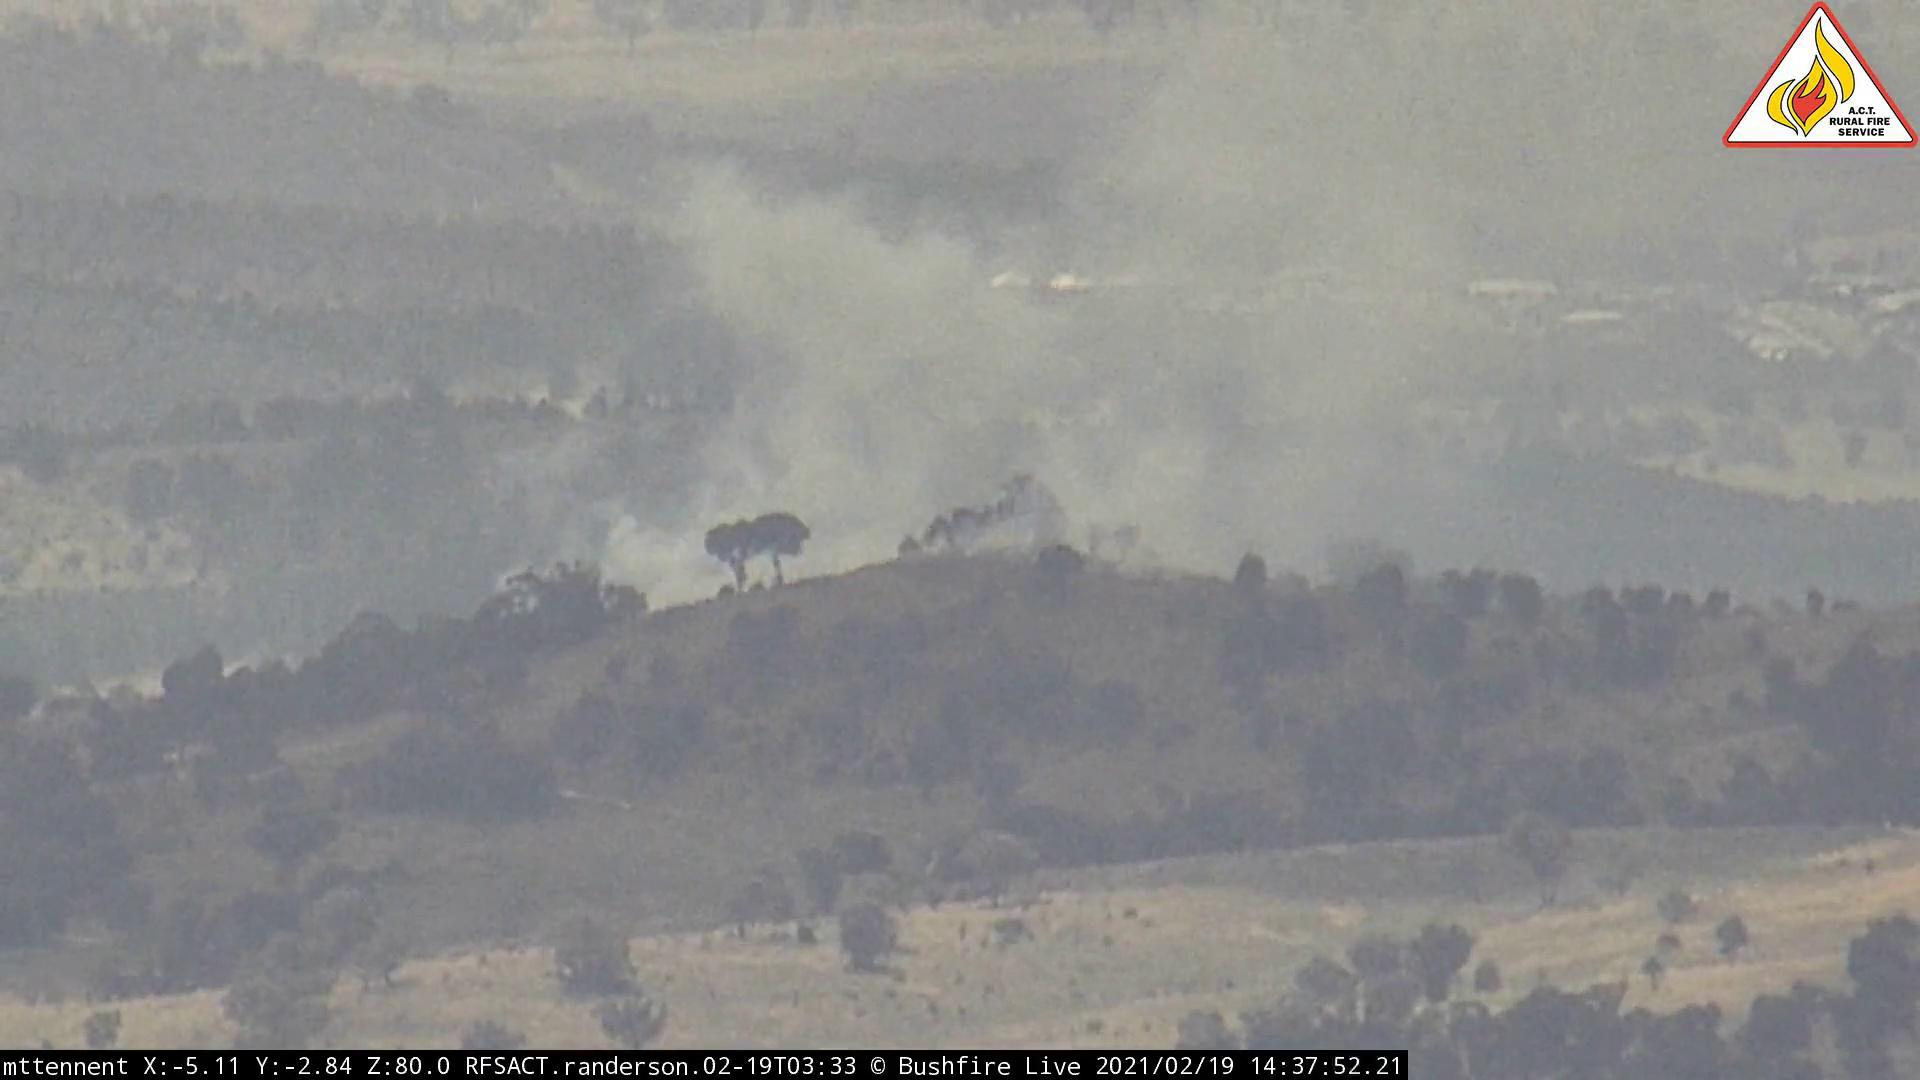Smoke: (516, 42, 1589, 622)
